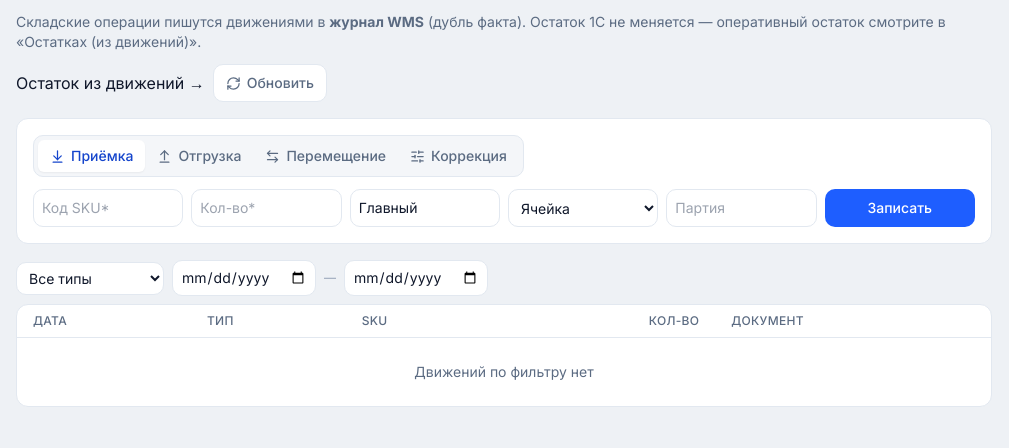
Scenario: WmsMovements › отправка без SKU/кол-ва показывает ошибку и не дёргает бэкенд
This screenshot has width=1009, height=448.
Click the button "Записать": (900, 208) [825,189,975,227]
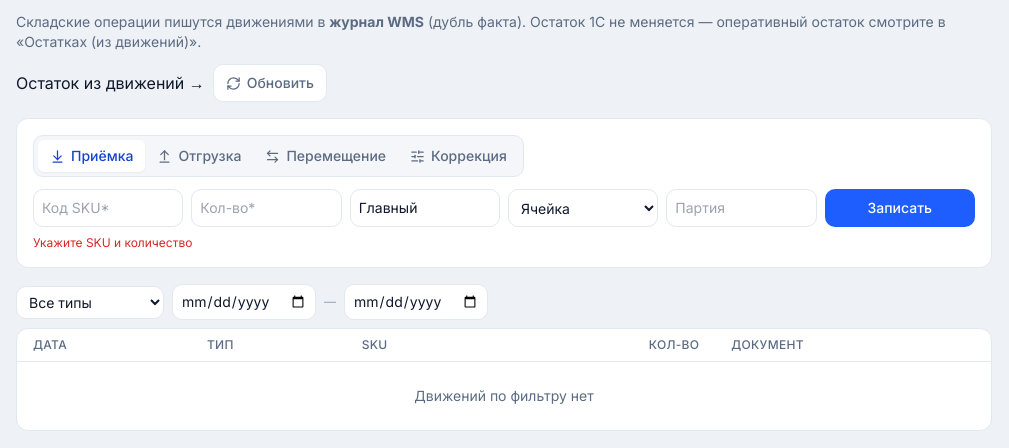
Expected: the text "Укажите SKU и количество" is shown, [33,235,192,250]
